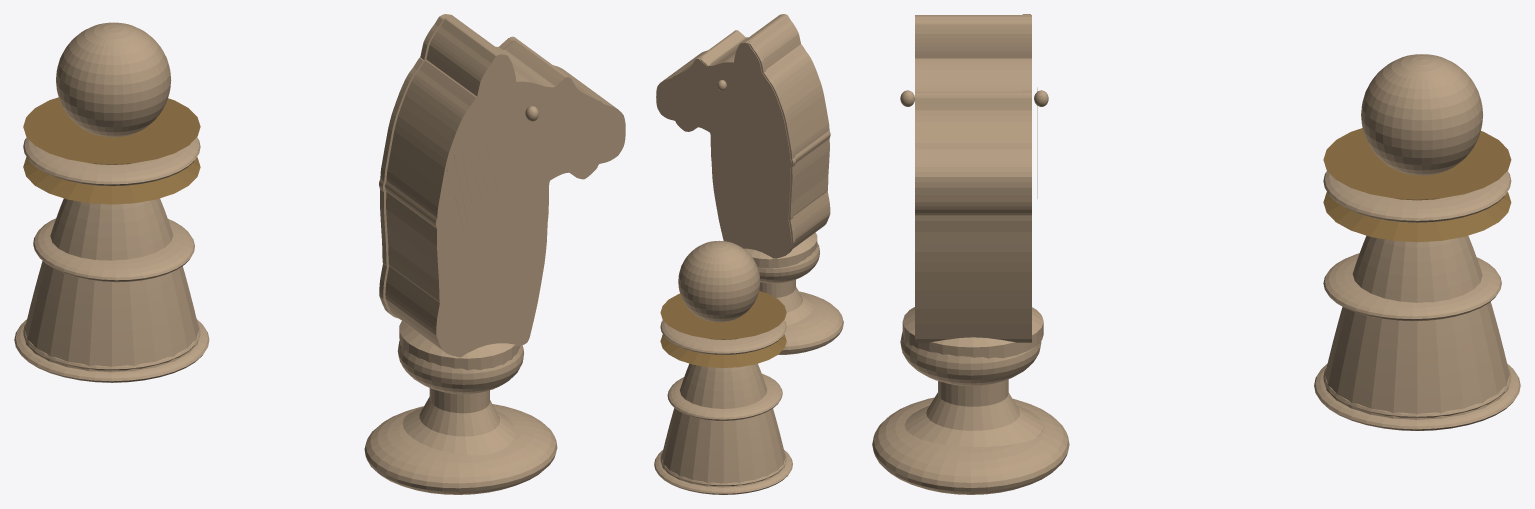
File: Tonychesspawn.glb
The picture shows the model from 3 angles, left to right: view 1: azimuth 30°, elevation 25°; view 2: azimuth 150°, elevation 25°; view 3: azimuth 270°, elevation 25°; orthographic projection. The views are drawn at different scales.
Visible parts, largest first — view 1: Mesh_Mesh_head_geo.001_lambert2SG.001; view 2: Mesh_Mesh_head_geo.001_lambert2SG.001; view 3: Mesh_Mesh_head_geo.001_lambert2SG.001.
Boxes of the visible parts, <box> form: Mesh_Mesh_head_geo.001_lambert2SG.001: <box>14,14,625,494</box>; Mesh_Mesh_head_geo.001_lambert2SG.001: <box>654,14,843,494</box>; Mesh_Mesh_head_geo.001_lambert2SG.001: <box>872,14,1520,494</box>.
Bounding box in the file's own units: 47 × 54 × 69.
